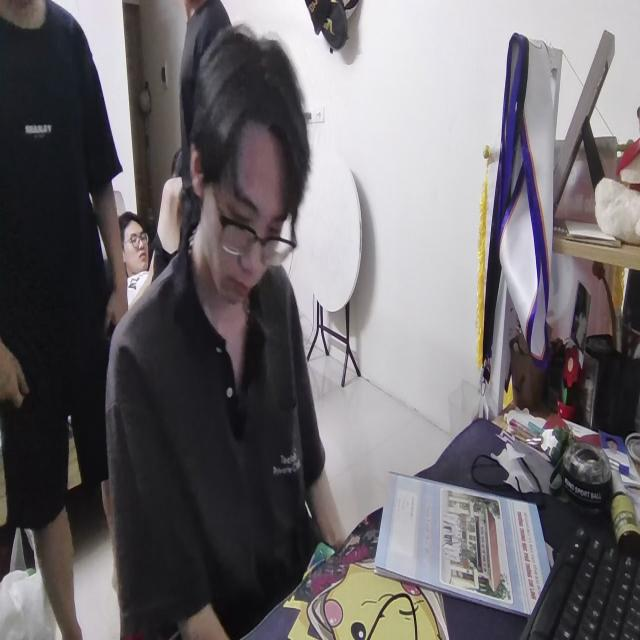book: (367, 462, 552, 622)
extra_person: (0, 0, 126, 640), (171, 0, 231, 155), (123, 182, 176, 294)
student: (103, 19, 350, 640)
